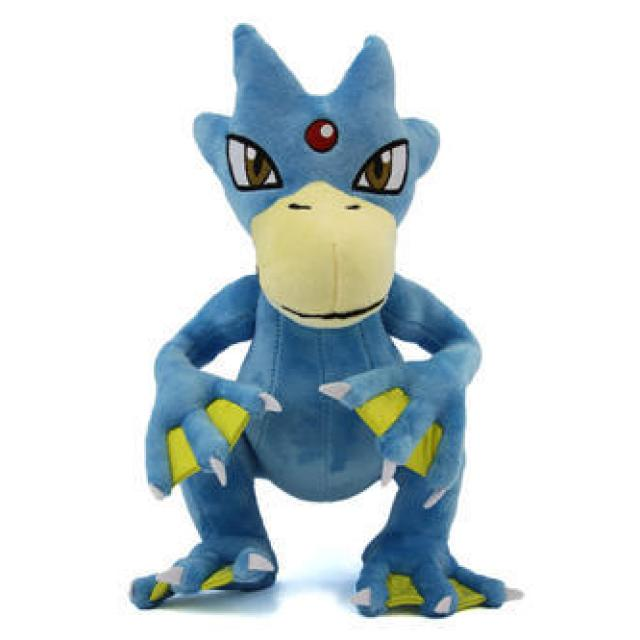Golduck: (160, 37, 475, 614)
